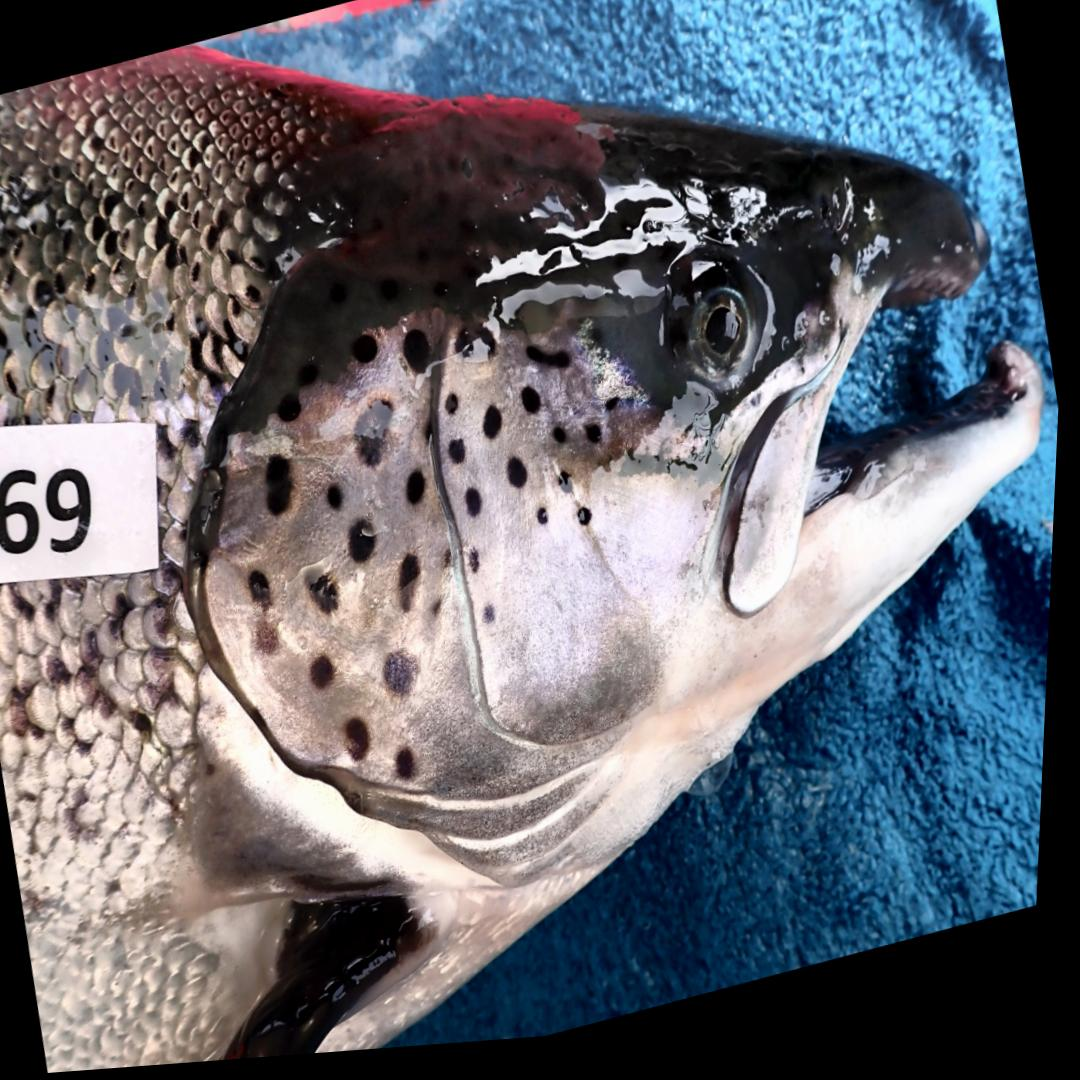spot: (357, 405, 397, 475), (308, 569, 347, 621), (269, 460, 297, 520), (388, 657, 424, 703), (349, 524, 381, 569), (402, 559, 426, 618), (459, 334, 499, 366), (405, 336, 433, 379), (529, 352, 574, 378), (351, 724, 377, 767), (314, 658, 342, 694), (252, 574, 277, 612), (259, 625, 285, 661), (356, 339, 380, 372), (280, 398, 304, 428), (409, 476, 430, 510), (486, 412, 506, 446), (402, 753, 423, 785), (511, 464, 531, 496), (469, 495, 487, 525), (524, 394, 544, 421), (451, 445, 470, 470), (561, 479, 578, 502), (331, 491, 347, 515), (589, 432, 605, 453), (448, 399, 462, 423), (487, 611, 501, 632), (582, 515, 596, 534), (556, 435, 570, 453), (474, 554, 484, 578), (609, 405, 623, 420), (541, 516, 553, 532), (438, 604, 448, 623), (450, 556, 457, 575)
